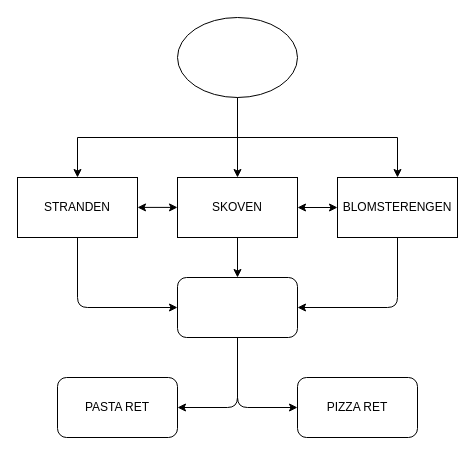
Image size: 475x455. Some labels were removed from this diagram. Each missing label, with the centre of its shape:
HJEM: the point at 237,57
KORT: the point at 237,307
